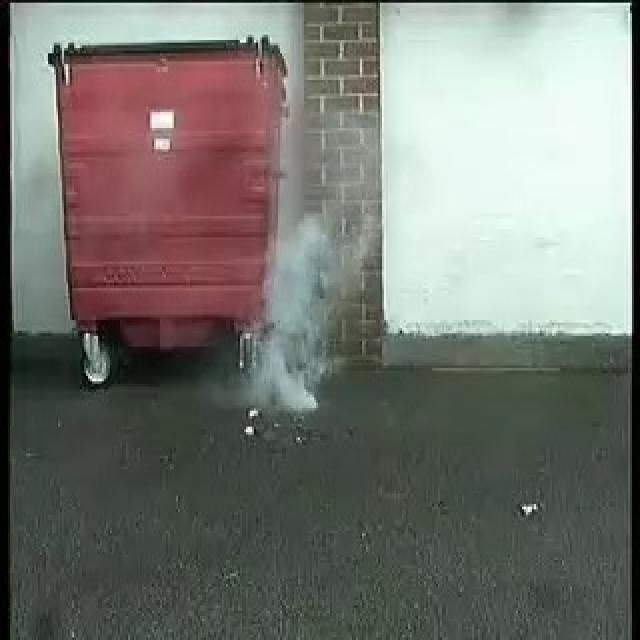smoke: (255, 140, 361, 416)
